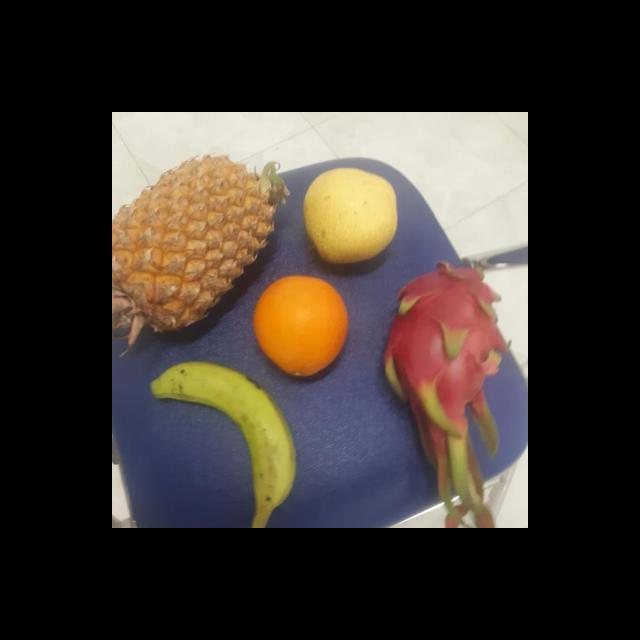banana: (150, 357, 300, 501)
guava: (255, 276, 352, 378)
orange: (253, 274, 351, 378)
pear: (300, 168, 402, 264)
pineapple: (112, 153, 282, 331)
pitaya: (385, 262, 509, 428)
